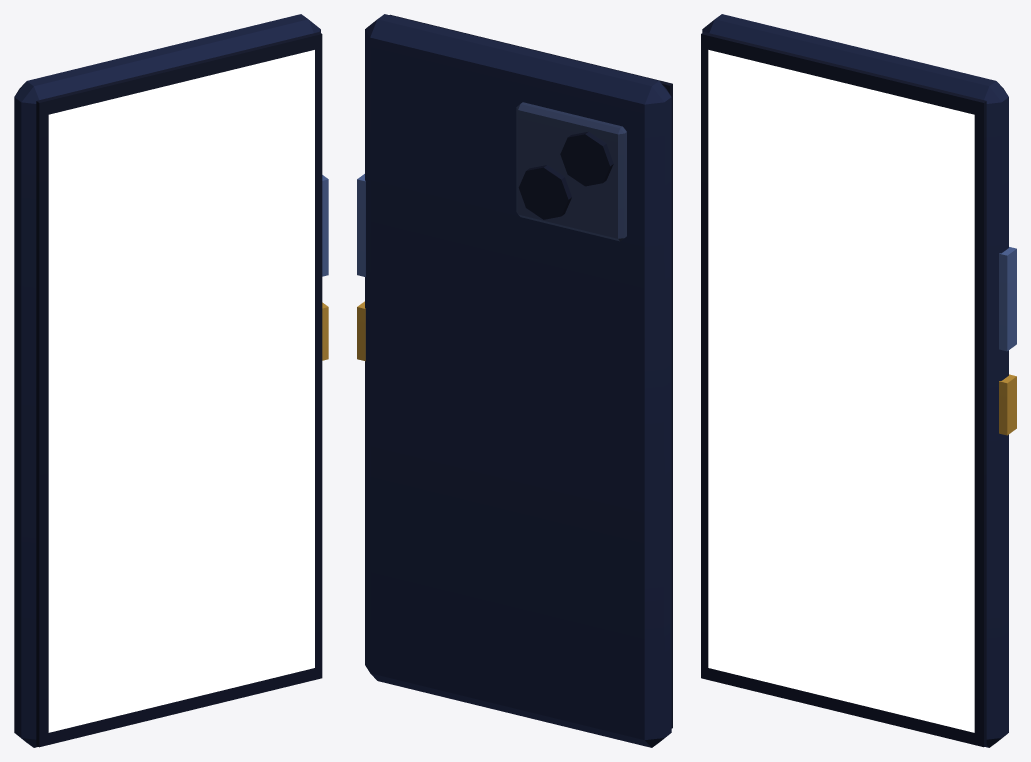
Rendered from phone.glb.
3 renders of one model, left to right at view 1: azimuth 30°, elevation 25°; view 2: azimuth 150°, elevation 25°; view 3: azimuth 330°, elevation 25°, orthographic.
Visible parts, largest first — view 1: Phone_Screen, Phone; view 2: Phone; view 3: Phone_Screen, Phone.
Part boxes in pixels (box(x1,y1,x2,y2)): Phone_Screen: box(48, 50, 314, 732); Phone: box(14, 14, 328, 747); Phone: box(357, 14, 672, 747); Phone_Screen: box(708, 50, 974, 732); Phone: box(701, 14, 1016, 747).
Bounding box in the file's own units: 0.0736 × 0.152 × 0.0144.
